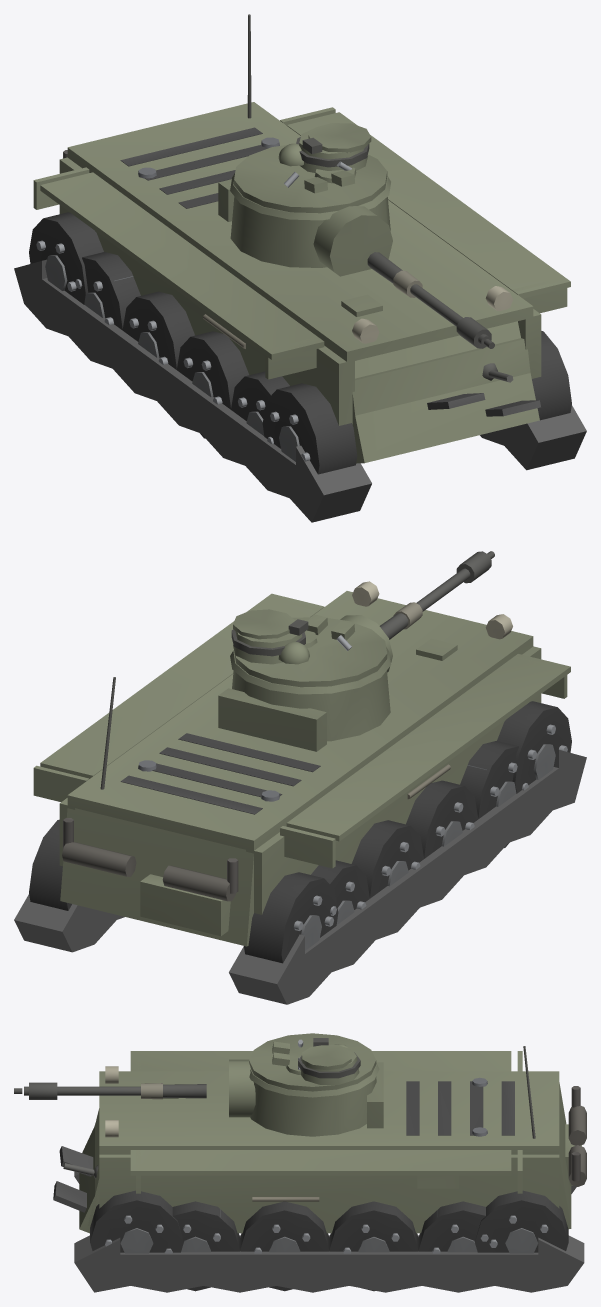
3 renders of one model, top to bottom at view 1: azimuth 30°, elevation 25°; view 2: azimuth 150°, elevation 25°; view 3: azimuth 270°, elevation 25°, orthographic. The views are drawn at different scales.
Visible parts, largest first — view 1: hullTop, hullSide, tracks, glacis, turretRoof, lowerPlate, wheel4, turretFront, wheel5, mantlet, wheel2, wheel1 (+5 smaller); view 2: hullTop, hullSide, tracks, hullRear, turretRoof, wheel5, turretFront, turretRear, wheel4, wheel1, wheel2, wheel3 (+5 smaller); view 3: hullSide, hullTop, tracks, turretRoof, wheel10, turretFront, wheel11, wheel8, wheel7, hullRear, wheel9, wheel6 (+6 smaller).
Part boxes in pixels (x1,y1,x2,y2): hullTop: (67, 102, 533, 362); hullSide: (33, 107, 570, 425); tracks: (14, 259, 586, 522); glacis: (341, 294, 540, 463); turretRoof: (234, 123, 387, 213); lowerPlate: (352, 338, 530, 454); wheel4: (262, 383, 357, 474); turretFront: (230, 196, 390, 267); wheel5: (29, 212, 103, 304); mantlet: (313, 206, 392, 276); wheel2: (177, 331, 248, 438); wheel1: (122, 291, 194, 369); hullTop: (67, 591, 533, 851); hullSide: (33, 581, 570, 914); tracks: (14, 748, 586, 1004); hullRear: (60, 677, 255, 946); turretRoof: (231, 609, 387, 687); wheel5: (244, 872, 338, 963); turretFront: (232, 670, 390, 741); turretRear: (218, 688, 326, 751); wheel4: (497, 701, 571, 793); wheel1: (351, 820, 423, 898); wheel2: (406, 780, 478, 858); wheel3: (460, 741, 528, 847); hullSide: (99, 1051, 559, 1233); hullTop: (99, 1071, 559, 1154); tracks: (74, 1171, 584, 1292); turretRoof: (249, 1033, 376, 1091); wheel10: (90, 1190, 183, 1253); turretFront: (250, 1076, 376, 1136); wheel11: (475, 1190, 568, 1253); wheel8: (240, 1201, 329, 1291); wheel7: (329, 1201, 418, 1291); hullRear: (523, 1046, 586, 1229); wheel9: (164, 1201, 239, 1291); wheel6: (418, 1201, 488, 1253).
Bounding box in the file's own units: 3.4 × 2.94 × 6.85.
